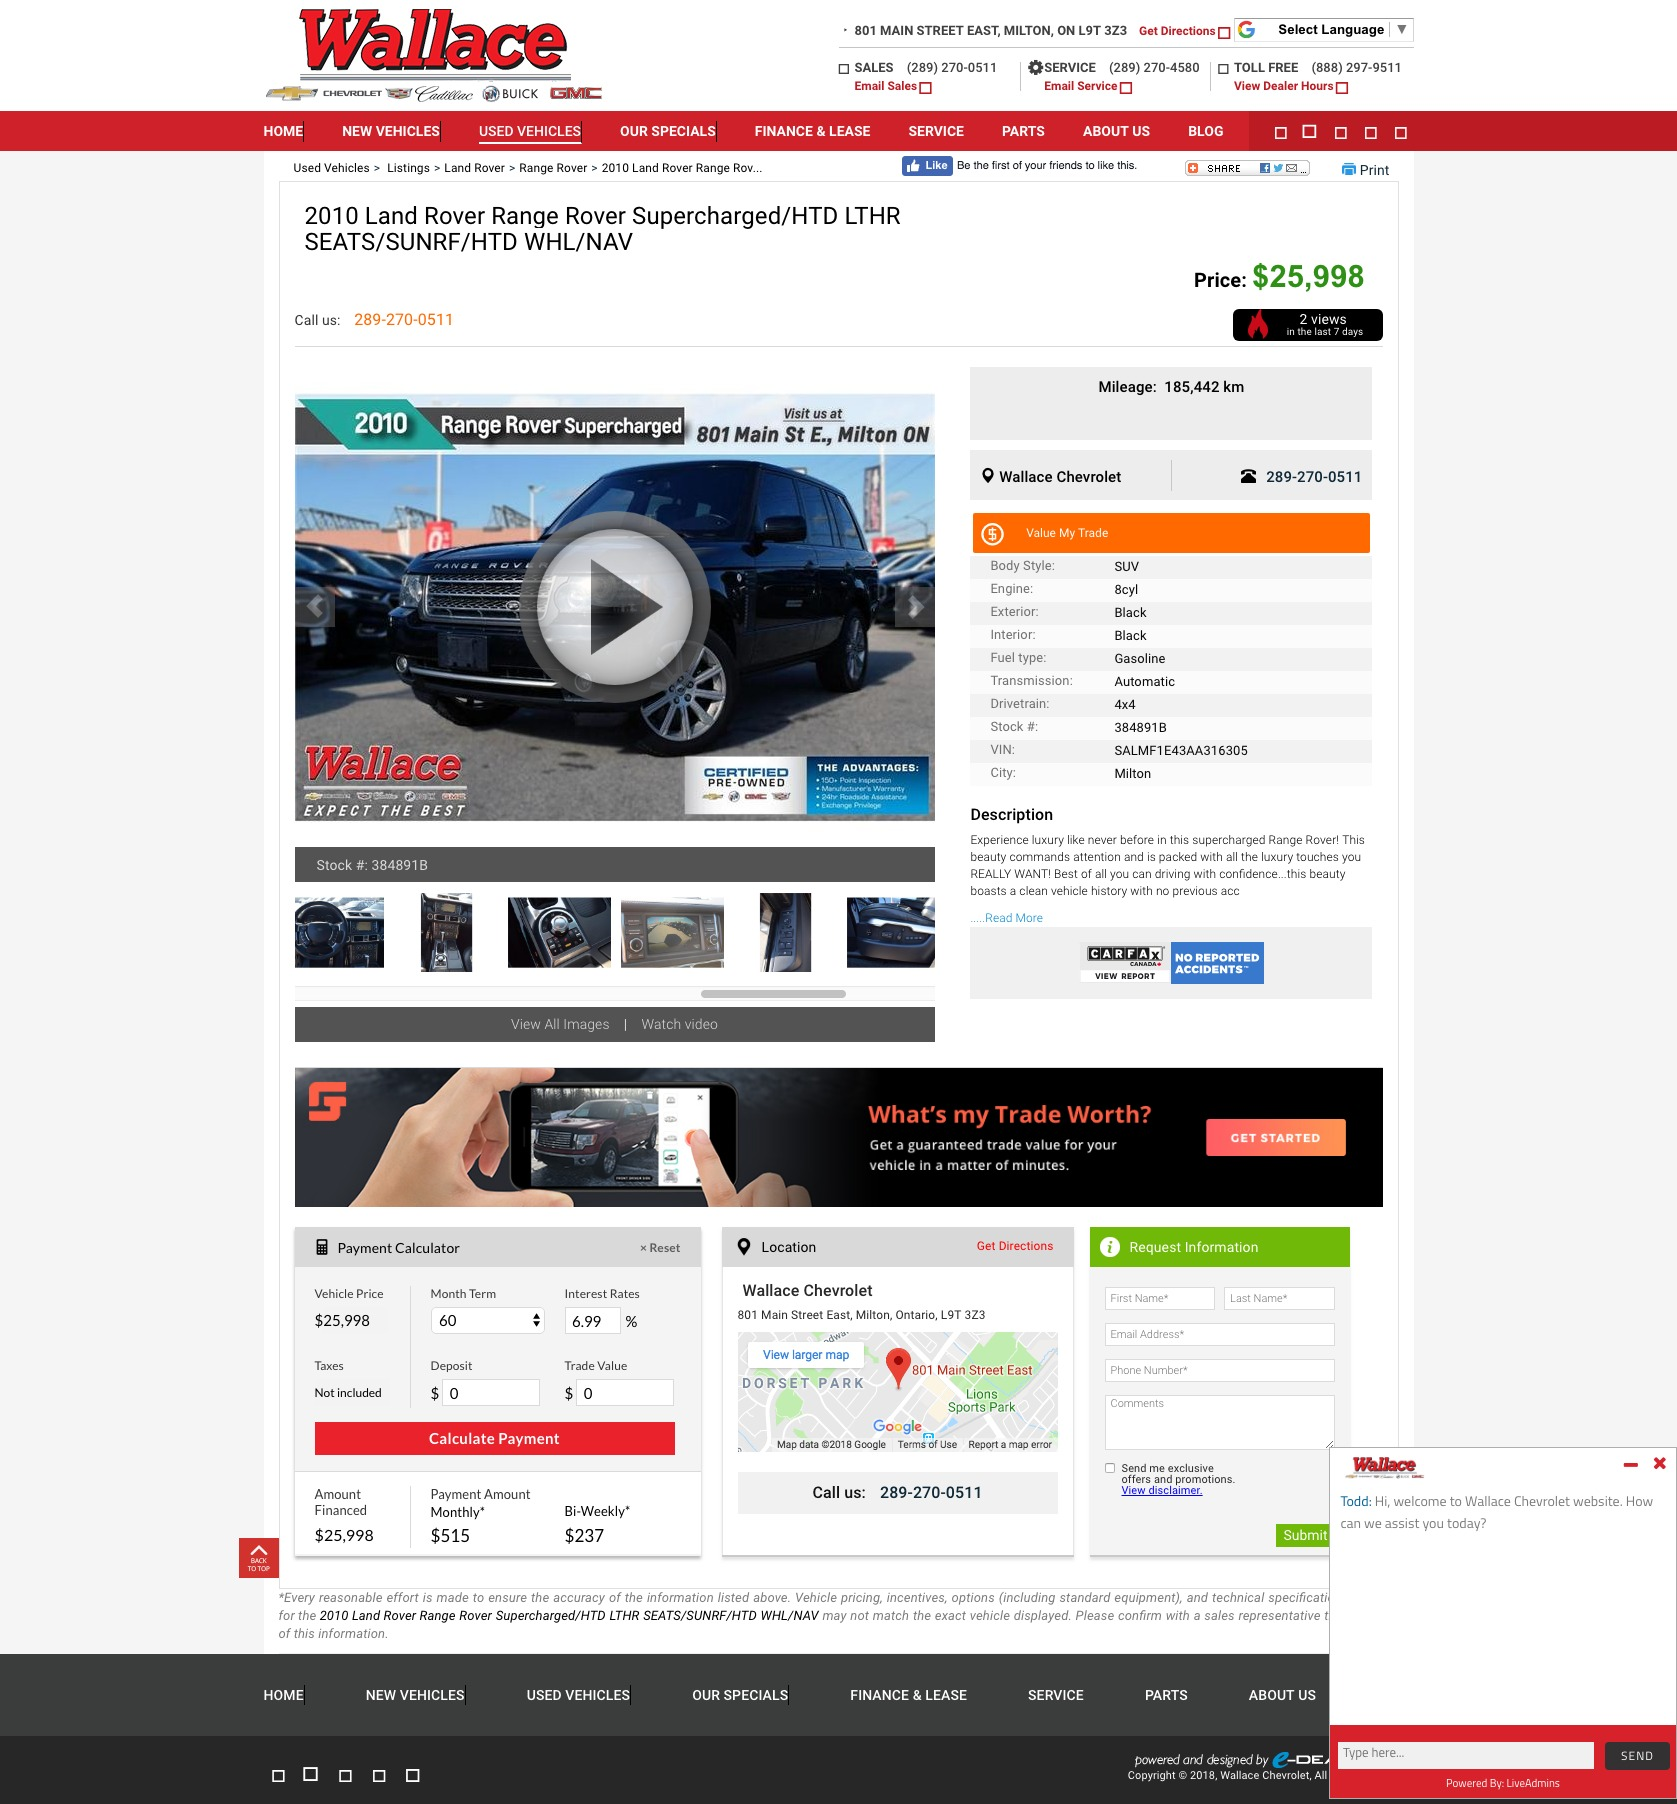car: (908, 596, 927, 621)
